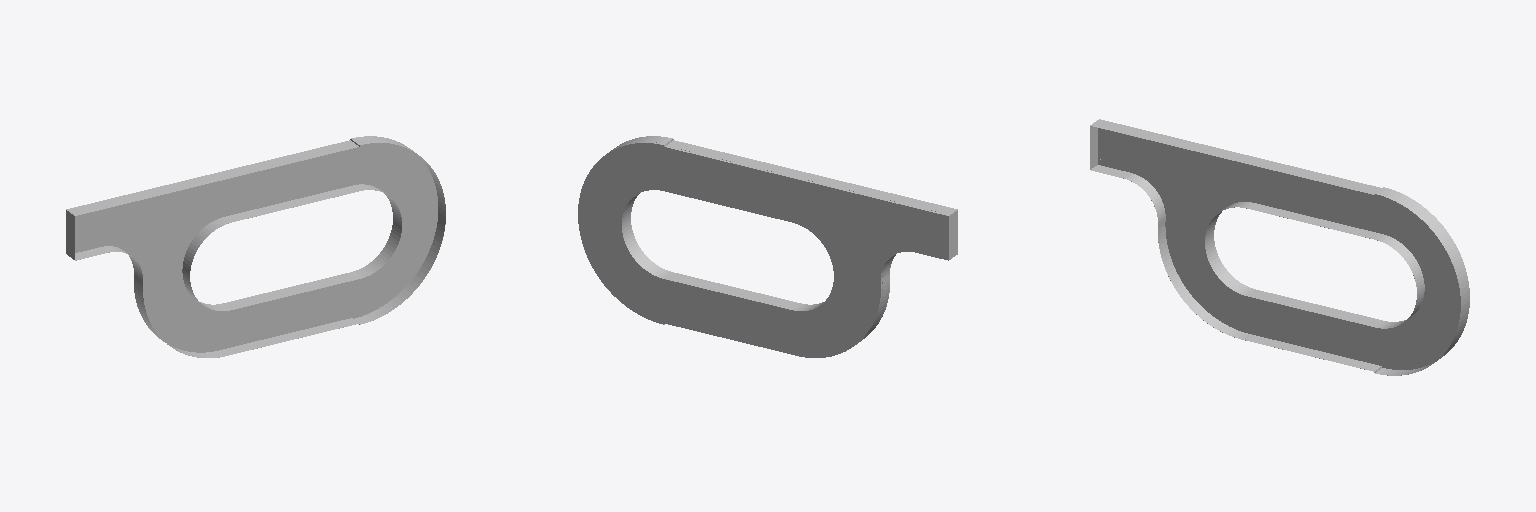
The model's file is Full Oval Export Testing v1.obj.
3 views of the same model, side by side, from view 1: azimuth 30°, elevation 25°; view 2: azimuth 150°, elevation 25°; view 3: azimuth 330°, elevation 25° (orthographic).
Parts seen in each view (by area): view 1: Body1:2, Body1 (1), Body2:1, Body4:1, Body3:1, Body1:1; view 2: Body1:2, Body1 (1), Body4:1, Body3:1, Body2:1, Body1:1; view 3: Body1:2, Body1 (1), Body2:1, Body3:1, Body4:1, Body1:1.
Part boxes in pixels (bbox=[...]): Body1:2: bbox=[66, 171, 223, 352]; Body1 (1): bbox=[350, 136, 437, 318]; Body2:1: bbox=[67, 137, 445, 357]; Body4:1: bbox=[223, 272, 351, 348]; Body3:1: bbox=[223, 140, 351, 216]; Body1:1: bbox=[182, 184, 401, 310]; Body1:2: bbox=[792, 177, 949, 357]; Body1 (1): bbox=[578, 142, 665, 324]; Body4:1: bbox=[664, 278, 792, 354]; Body3:1: bbox=[664, 146, 792, 221]; Body2:1: bbox=[607, 136, 957, 341]; Body1:1: bbox=[623, 193, 823, 309]; Body1:2: bbox=[1098, 119, 1255, 334]; Body1 (1): bbox=[1382, 187, 1469, 369]; Body2:1: bbox=[1090, 120, 1468, 375]; Body3:1: bbox=[1255, 157, 1381, 233]; Body4:1: bbox=[1255, 290, 1382, 365]; Body1:1: bbox=[1205, 202, 1424, 328].
Bounding box in the file's own units: 7.09 × 3.28 × 0.3048.